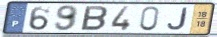0: (139, 5, 161, 32)
4: (109, 5, 133, 32)
6: (28, 5, 52, 31)
9: (52, 4, 81, 32)
B: (79, 5, 109, 32)
J: (166, 7, 190, 31)
